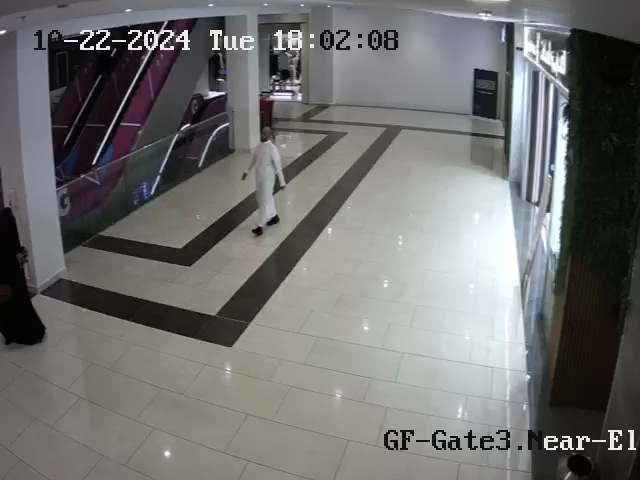male: (241, 126, 287, 236)
